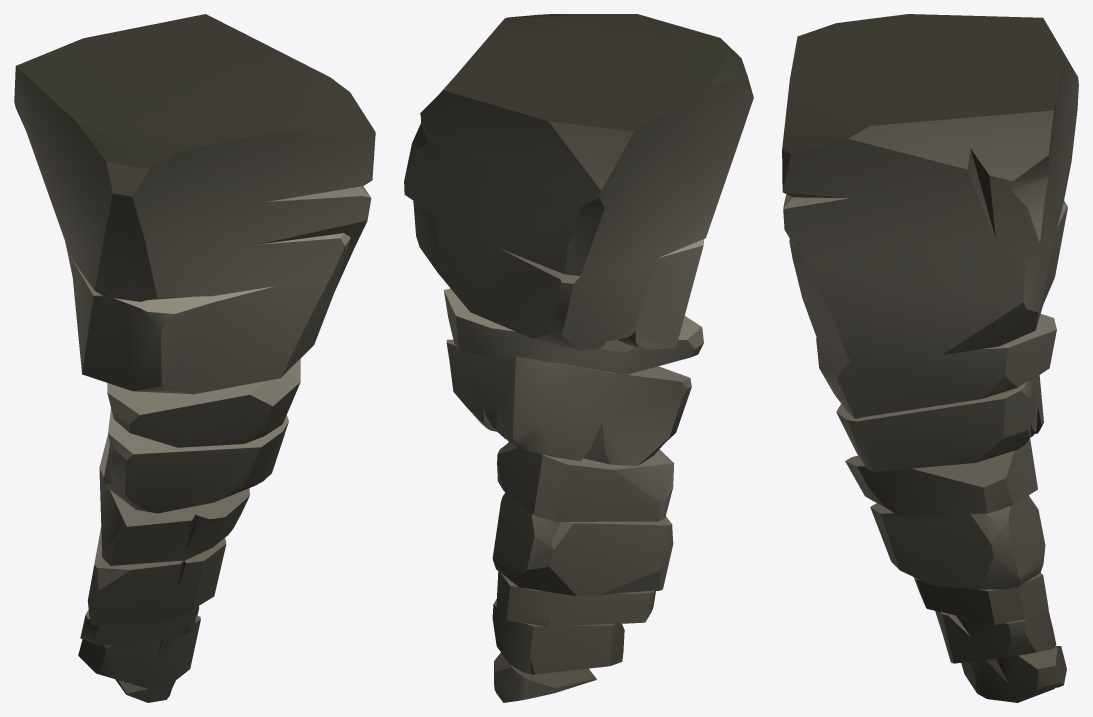
Rendered from Stalactite_1A.fbx.
3 views of the same model, side by side, from view 1: azimuth 30°, elevation 25°; view 2: azimuth 150°, elevation 25°; view 3: azimuth 270°, elevation 25° (orthographic). The views are drawn at different scales.
Visible parts, largest first — view 1: Stalactite_1A; view 2: Stalactite_1A; view 3: Stalactite_1A.
Part boxes in pixels (box(x1,y1,x2,y2)): Stalactite_1A: box(14, 14, 375, 702); Stalactite_1A: box(404, 14, 753, 702); Stalactite_1A: box(782, 14, 1078, 702).
Size of the model in its own units: 167 by 396 by 171.
